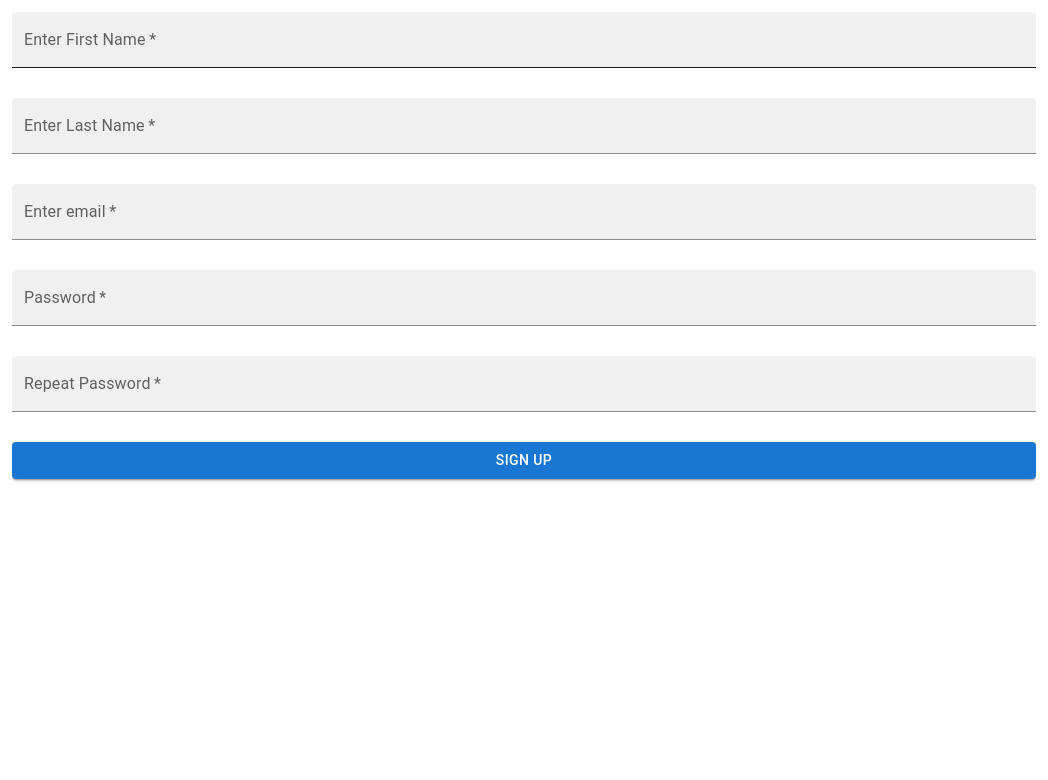
Test case: user registration › has First name must be of length 2 to 32
In the field labelled "Enter First Name *": (524, 40) [12,12,1036,68], type "M"
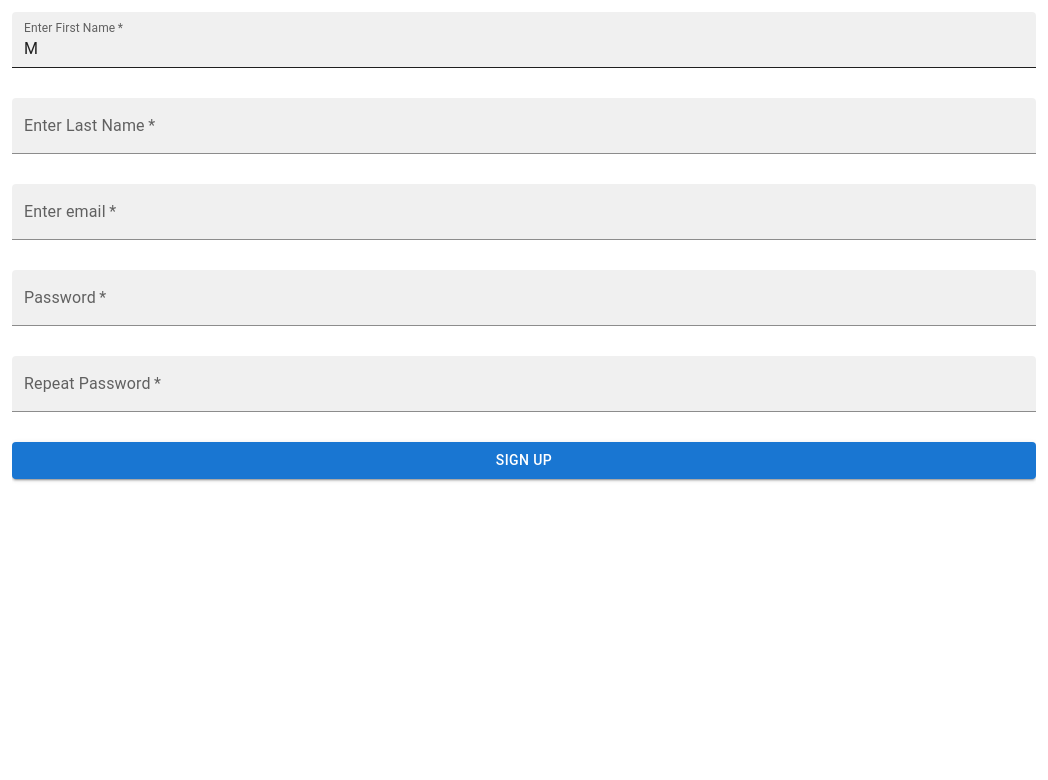
Click the button "Sign Up": (524, 460) [12,442,1036,478]
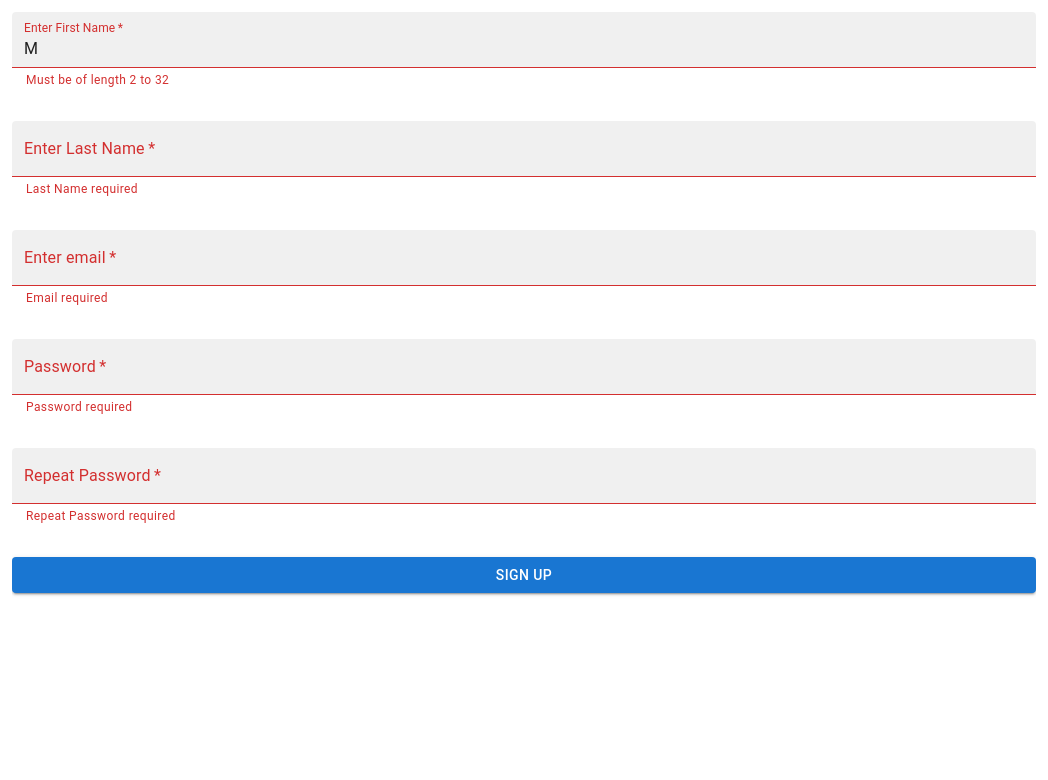
Check: the text "Must be of length 2 to 32" is shown, box [26,73,169,87]
